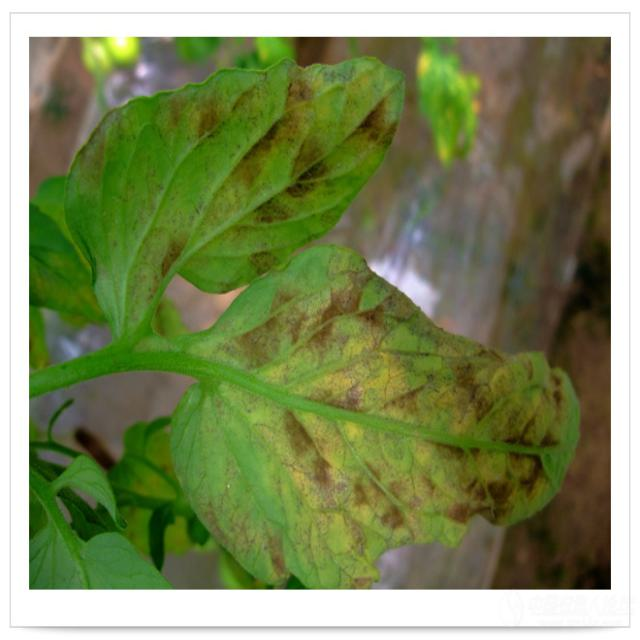Leaf_Mold: (192, 249, 582, 587), (67, 56, 404, 327)
